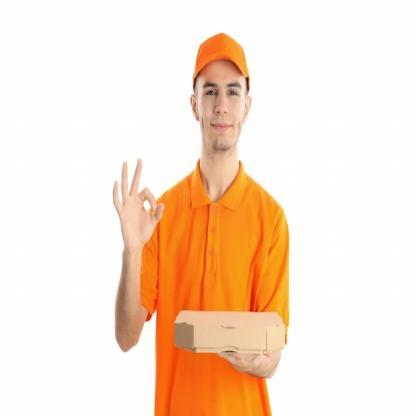ok: (111, 153, 167, 251)
